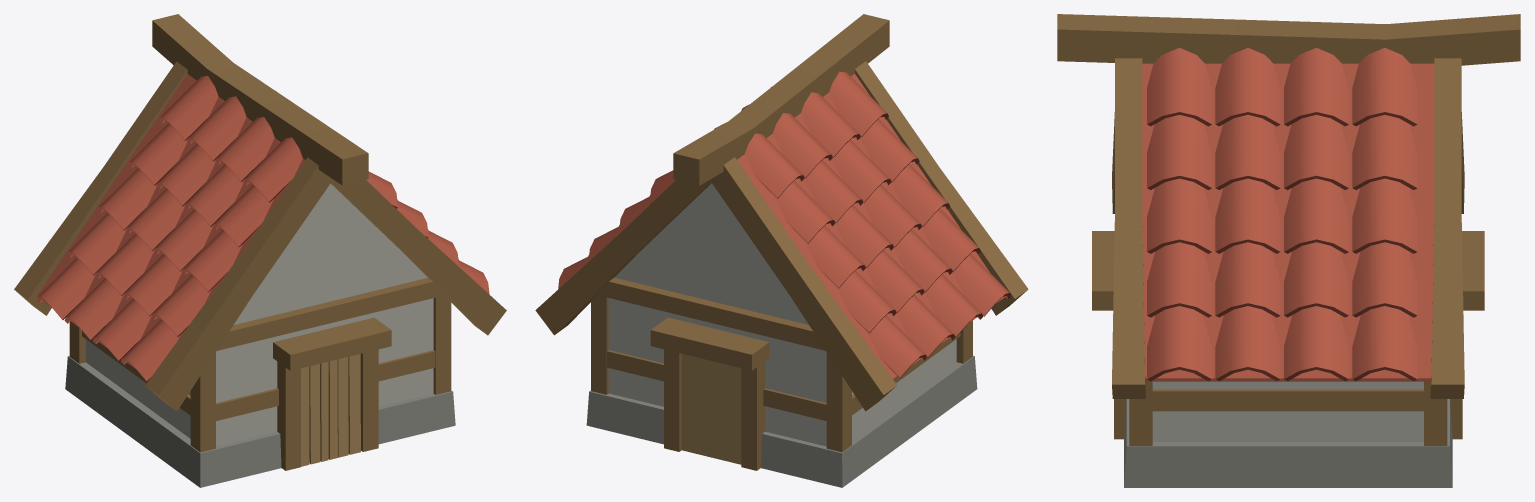
Rendered from HouseModified.fbx.
3 renders of one model, left to right at view 1: azimuth 30°, elevation 25°; view 2: azimuth 150°, elevation 25°; view 3: azimuth 270°, elevation 25°, orthographic. The views are drawn at different scales.
Parts seen in each view (by area): view 1: Houses_SecondAge_1_Level1; view 2: Houses_SecondAge_1_Level1; view 3: Houses_SecondAge_1_Level1.
Boxes of the visible parts, left/top/right/bottom form: Houses_SecondAge_1_Level1: left=14, top=14, right=506, bottom=487; Houses_SecondAge_1_Level1: left=535, top=14, right=1028, bottom=487; Houses_SecondAge_1_Level1: left=1057, top=14, right=1520, bottom=487.
Size of the model in its own units: 89 by 76.56 by 82.26.
